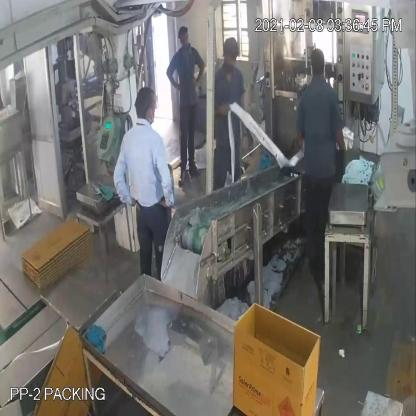no_glove: (110, 143, 136, 209), (154, 147, 178, 216), (191, 48, 205, 88), (165, 58, 180, 92)
